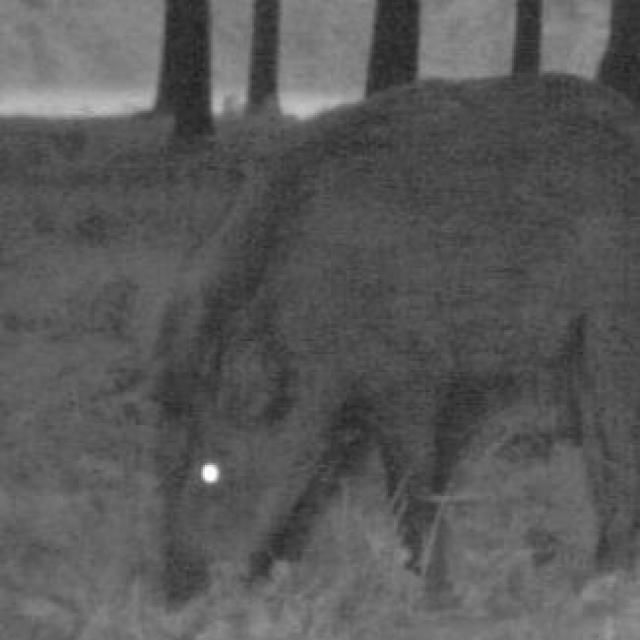pig: (121, 22, 640, 608)
